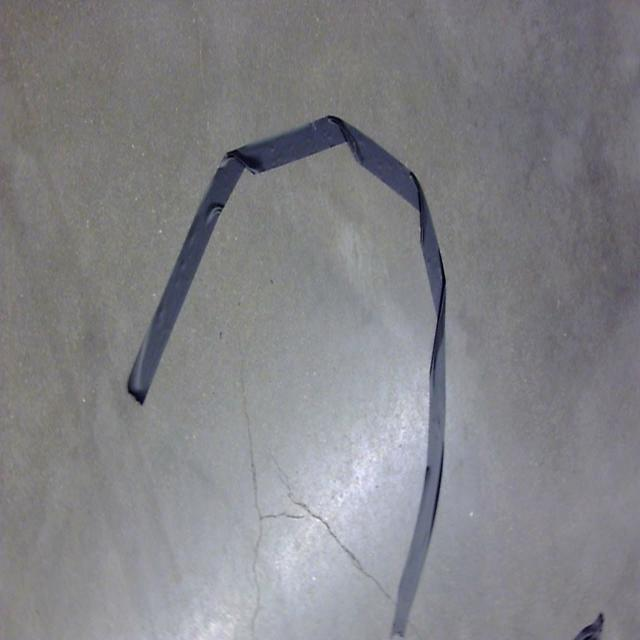tape: (110, 101, 468, 640), (550, 596, 619, 640)
